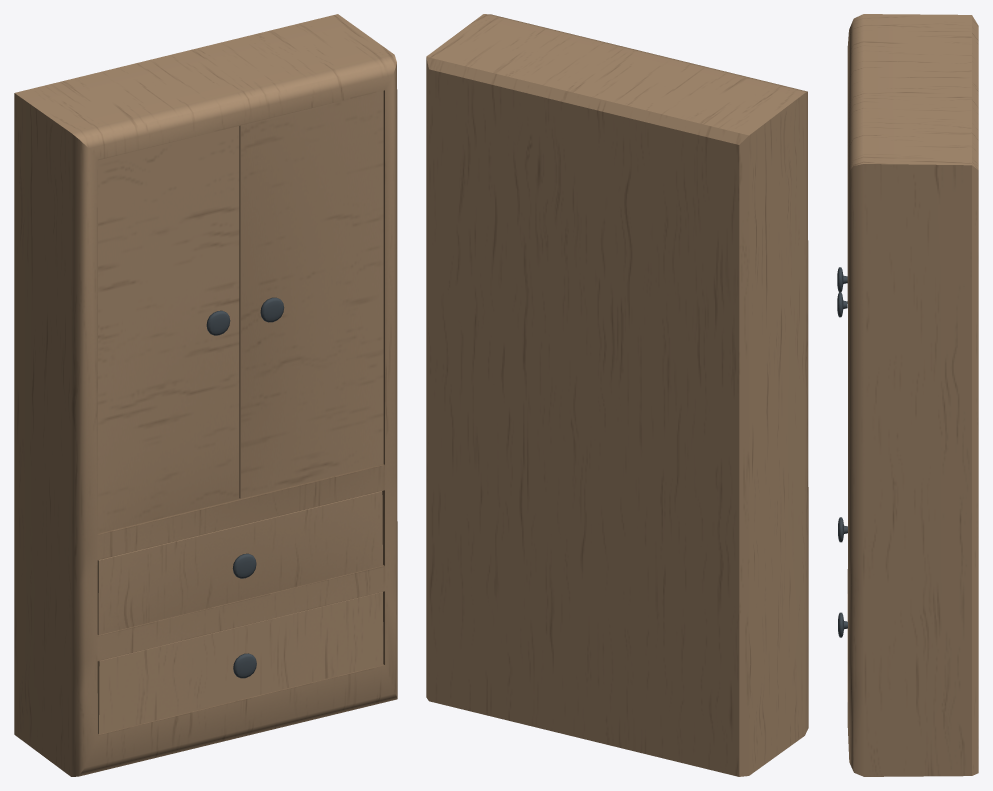
The model's file is Kledingkast.fbx.
3 renders of one model, left to right at view 1: azimuth 30°, elevation 25°; view 2: azimuth 150°, elevation 25°; view 3: azimuth 270°, elevation 25°, orthographic. The views are drawn at different scales.
Visible parts, largest first — view 1: KledingKast_Base, DoorL_KK, DoorR_KK, Drawer1_KK, Drawer2_KK; view 2: KledingKast_Base; view 3: KledingKast_Base.
Part boxes in pixels (box(x1,y1,x2,y2)): KledingKast_Base: box(14, 14, 397, 776); DoorL_KK: box(239, 90, 383, 498); DoorR_KK: box(97, 126, 239, 533); Drawer1_KK: box(97, 491, 382, 635); Drawer2_KK: box(97, 592, 383, 734); KledingKast_Base: box(426, 14, 808, 776); KledingKast_Base: box(847, 14, 978, 776).
Bounding box in the file's own units: 120 × 228 × 47.74.
Materials: 2 (1 with a texture image).
